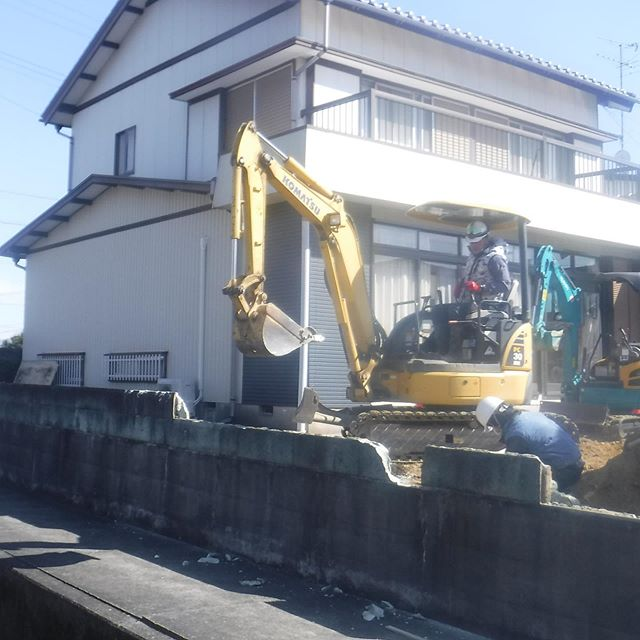building: (34, 31, 636, 397)
excavator: (228, 158, 550, 466)
